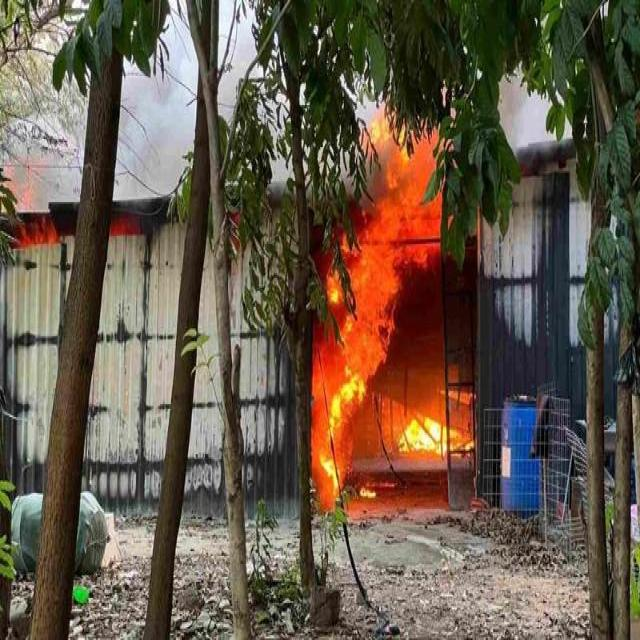Fire_Dangerous: (307, 101, 469, 501)
